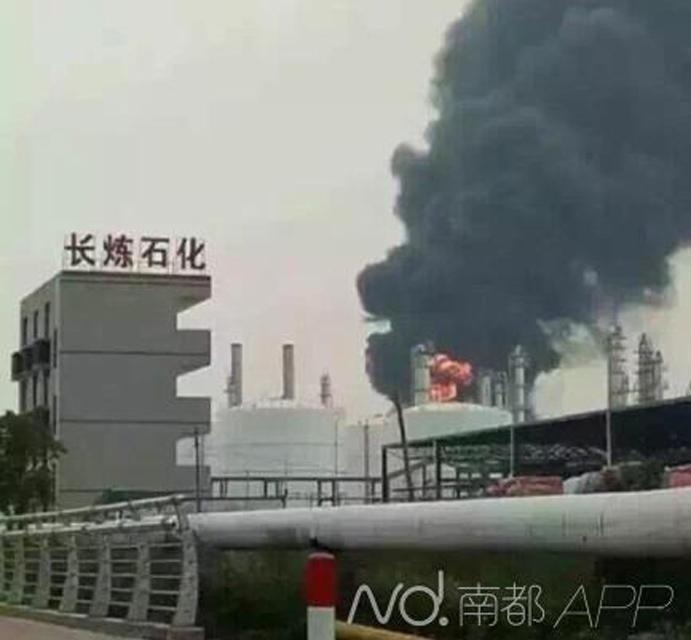fire: (429, 354, 473, 401)
